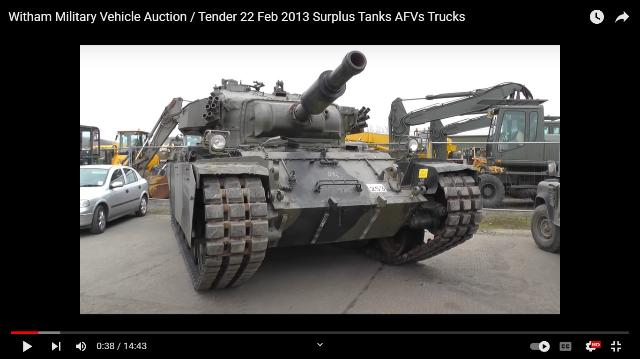tank: (169, 93, 475, 278)
